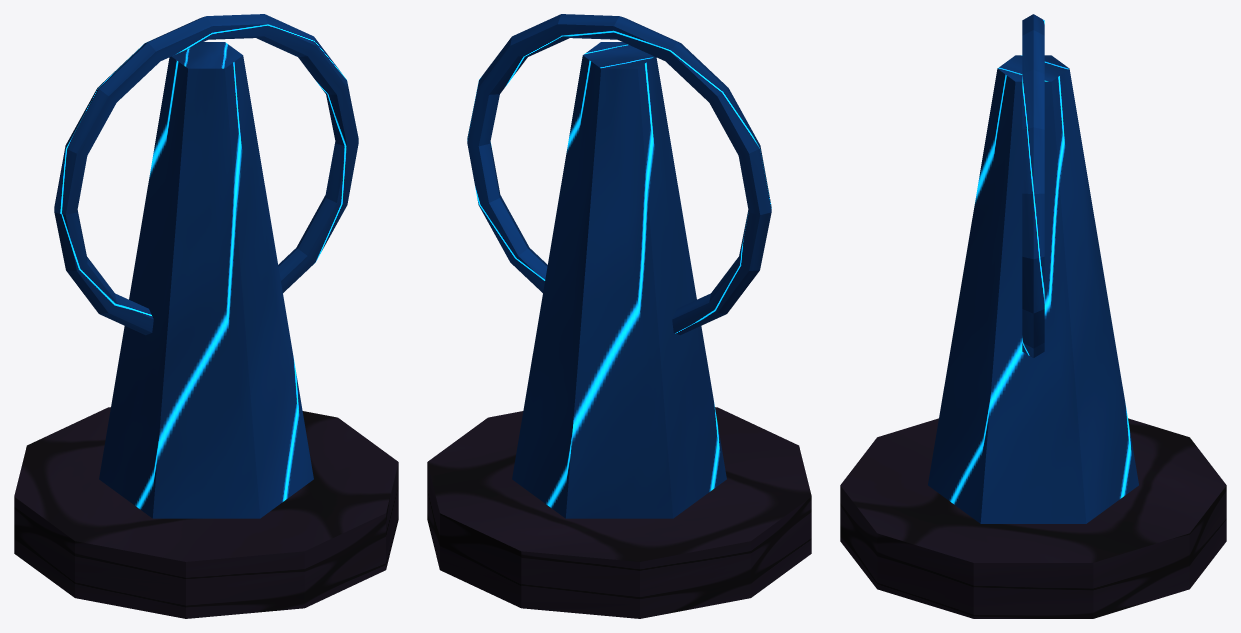
Rendered from SM_FC_CheckpointObelisk.fbx.
3 renders of one model, left to right at view 1: azimuth 30°, elevation 25°; view 2: azimuth 150°, elevation 25°; view 3: azimuth 270°, elevation 25°, orthographic.
Parts seen in each view (by area): view 1: SM_FC_CheckpointObelisk; view 2: SM_FC_CheckpointObelisk; view 3: SM_FC_CheckpointObelisk.
Boxes of the visible parts, x1,y1,x2,y2 form: SM_FC_CheckpointObelisk: (14,14,398,618); SM_FC_CheckpointObelisk: (427,14,811,618); SM_FC_CheckpointObelisk: (840,14,1226,618).
Size of what is drawn, in the model's own units: 1.43 by 2.19 by 1.5.
